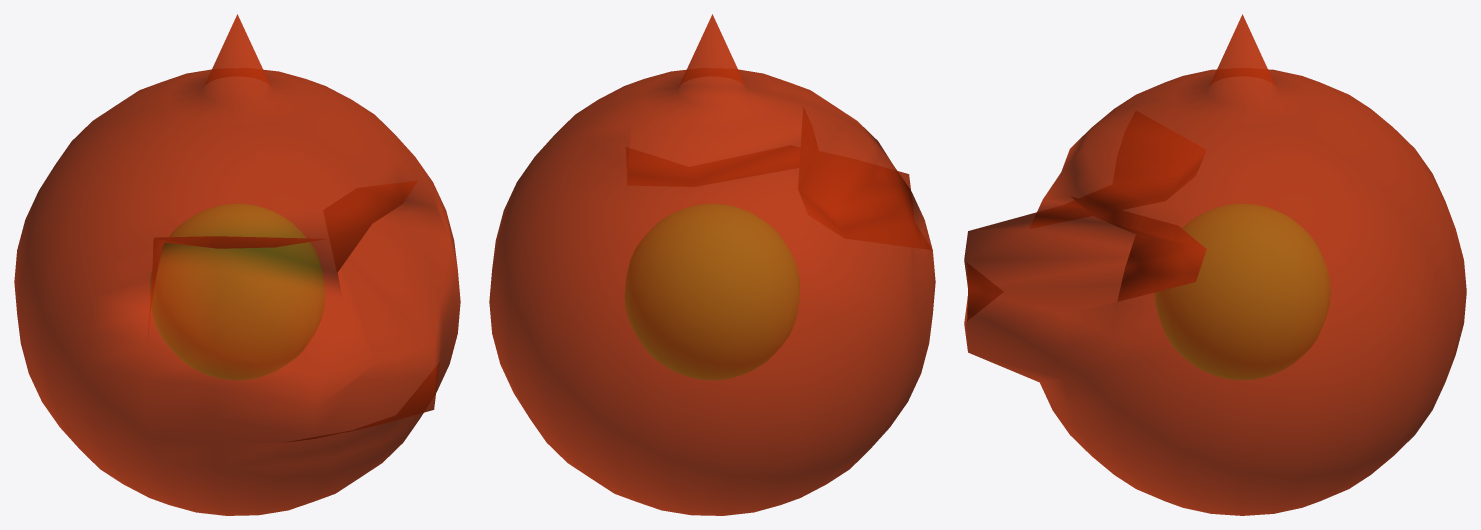
Rendered from testBallThing.fbx.
The picture shows the model from 3 angles, left to right: view 1: azimuth 30°, elevation 25°; view 2: azimuth 150°, elevation 25°; view 3: azimuth 270°, elevation 25°; orthographic projection.
Parts seen in each view (by area): view 1: pSphere1, pSphere2; view 2: pSphere1, pSphere2; view 3: pSphere1, pSphere2.
Boxes of the visible parts, x1,y1,x2,y2 form: pSphere1: [14, 14, 460, 515]; pSphere2: [150, 204, 324, 379]; pSphere1: [489, 14, 935, 515]; pSphere2: [625, 204, 799, 379]; pSphere1: [964, 14, 1466, 515]; pSphere2: [1154, 204, 1330, 379].
Bounding box in the file's own units: 2 × 2.37 × 2.24.
